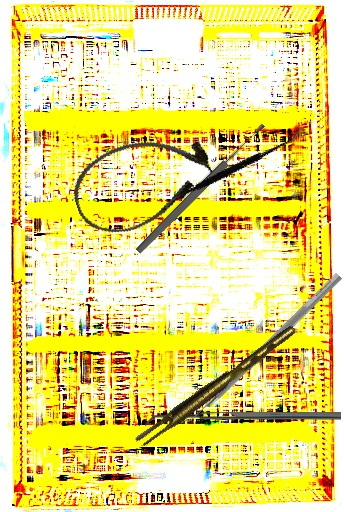Cannula: (63, 120, 223, 246)
Spatula Surgical: (176, 265, 343, 432), (163, 89, 301, 247), (145, 412, 341, 427)
Surgical Spoon: (134, 121, 268, 256)
Tissue Forceps: (130, 324, 303, 450)
